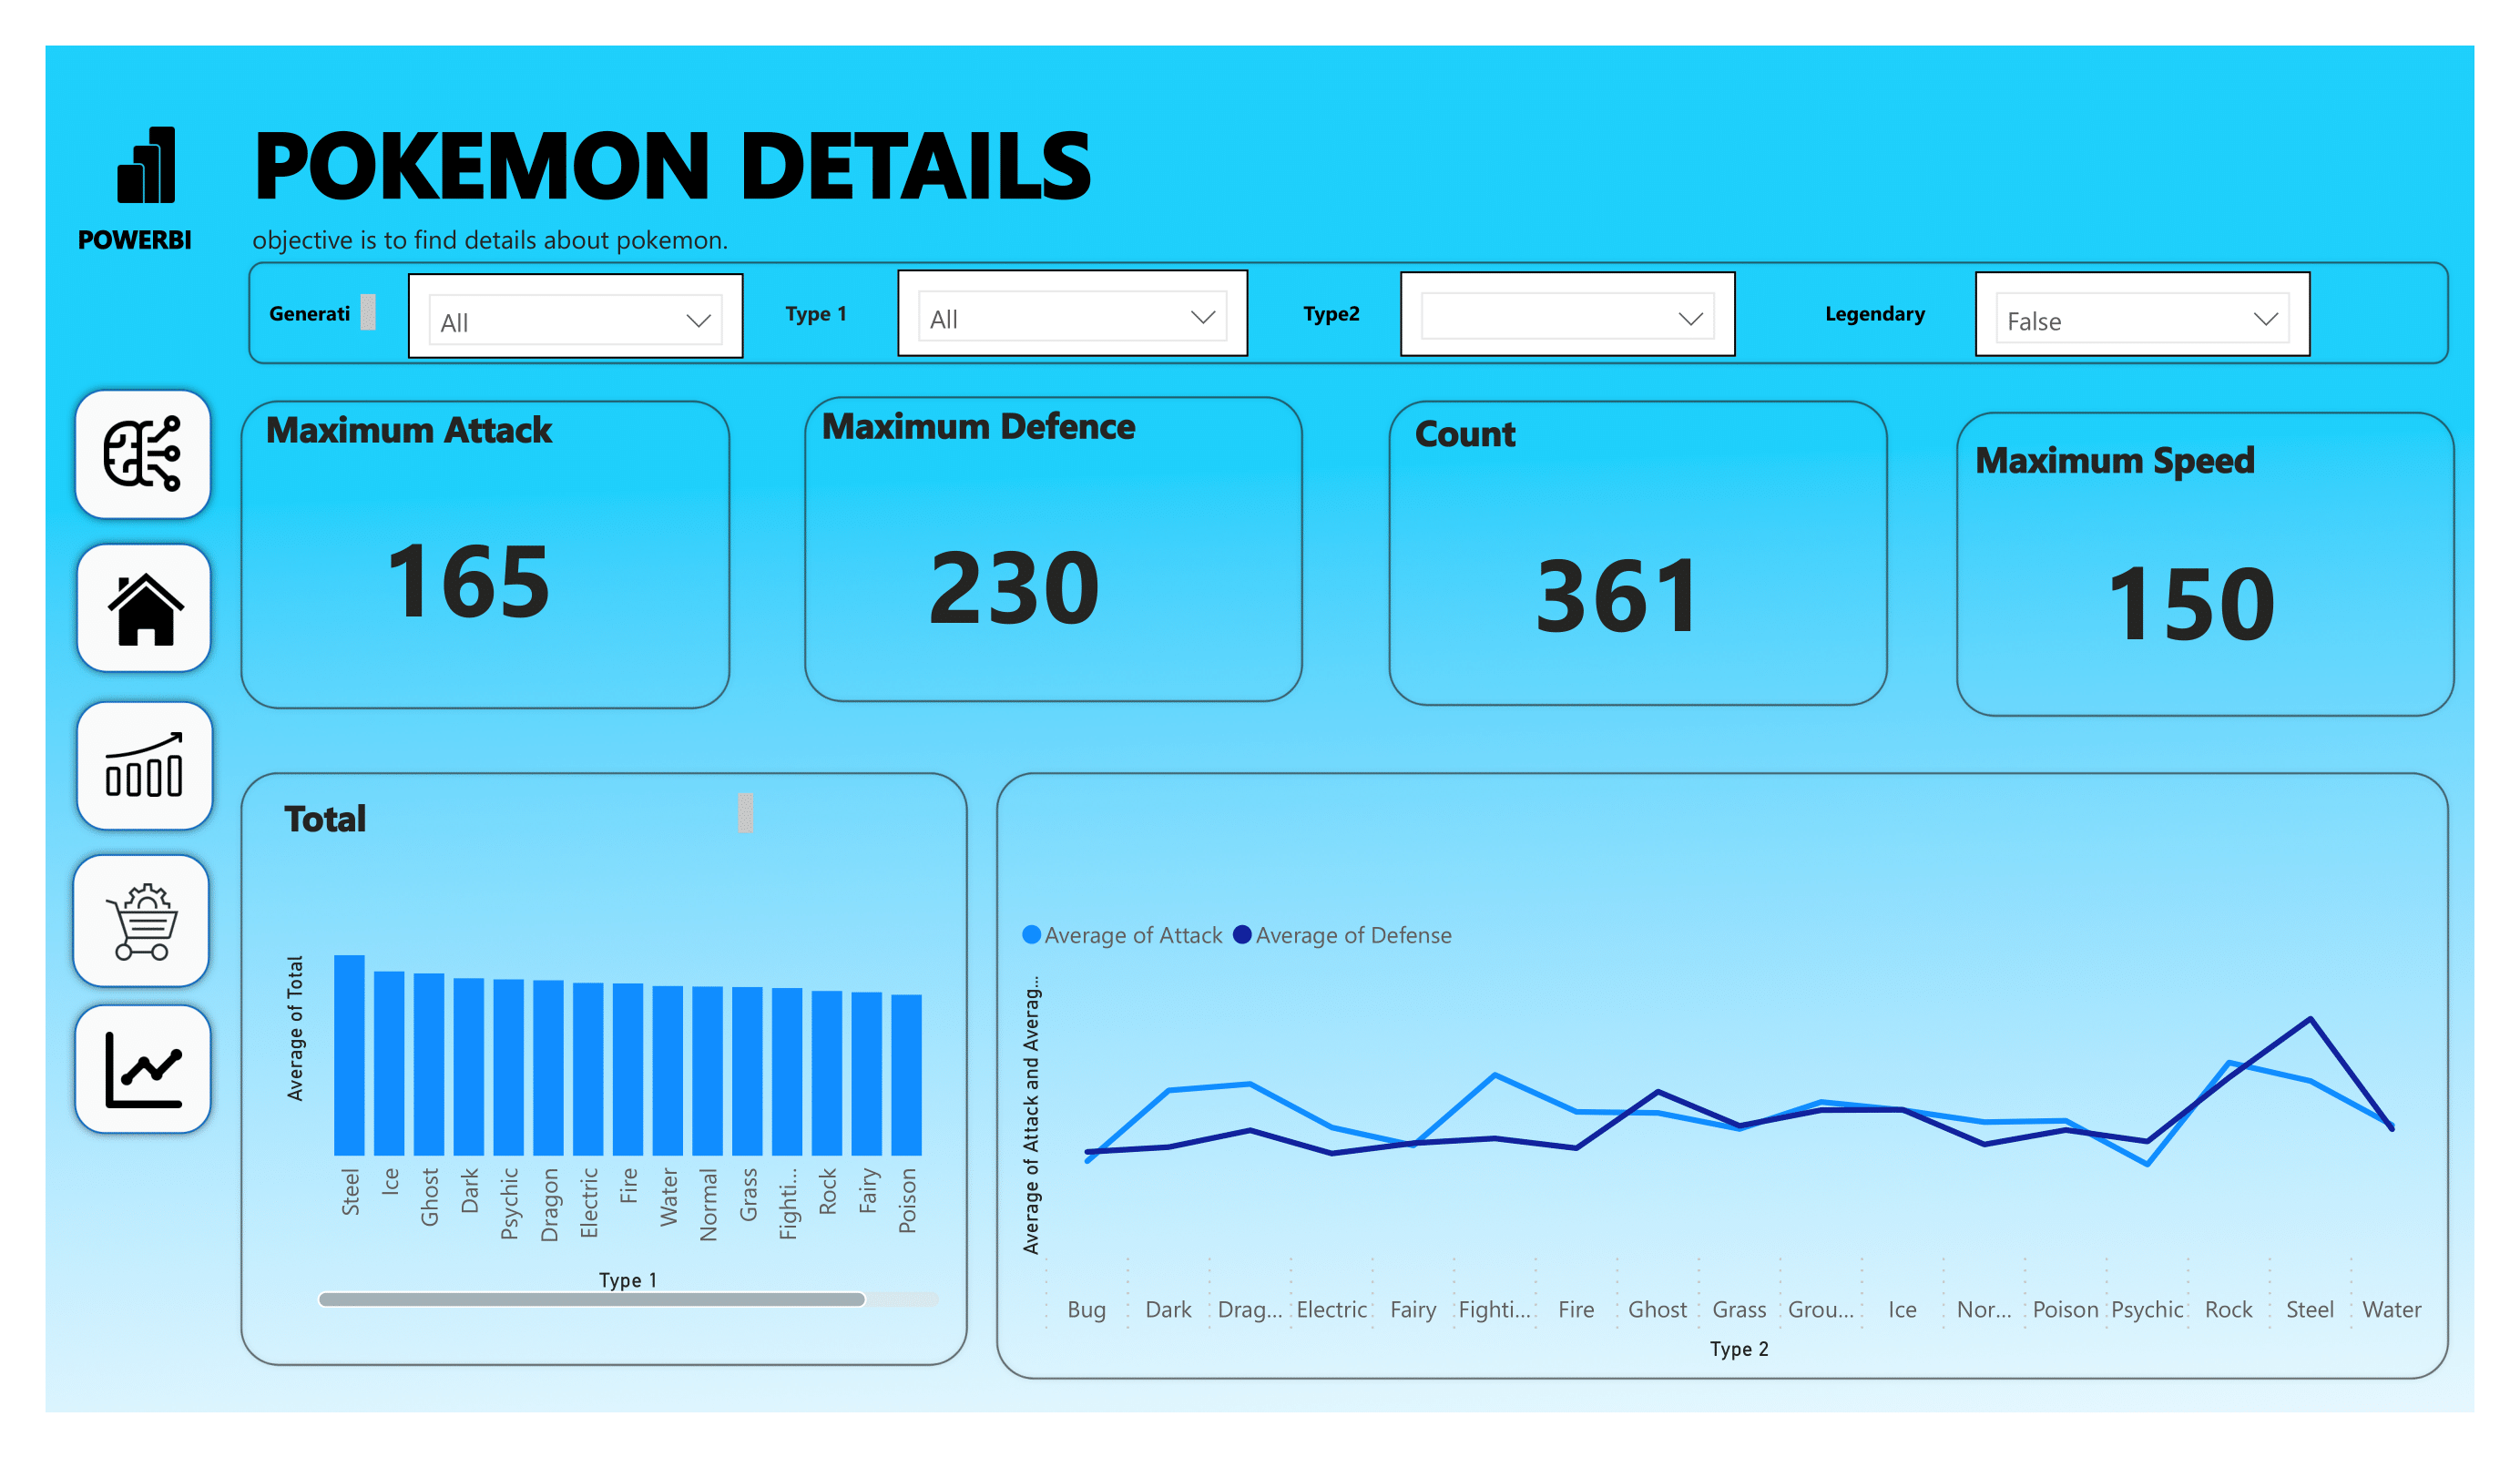

This screenshot's page, from the dashboard's own definition file:
{"tool":"powerbi","page":{"name":"pokemon","canvas":[1280,720],"ordinal":0},"visuals":[{"type":"shape","box":[10.2,422.2,81,79],"z":0},{"type":"shape","box":[12.2,341.2,81,77],"z":1000},{"type":"shape","box":[12.2,258.2,80,77],"z":2000},{"type":"shape","box":[11.2,177.2,81,77],"z":3000},{"type":"image","box":[28,38,50,50],"z":4000},{"type":"image","box":[27.2,354.2,50,50],"z":5000},{"type":"image","box":[28,272,50,50],"z":6000},{"type":"image","box":[26.2,190.2,50,50],"z":7000},{"type":"image","box":[26.2,437.2,50,50],"z":8000},{"type":"shape","box":[11.4,501.4,81,77],"z":9000},{"type":"image","box":[27.2,515.2,50,50],"z":10000},{"type":"textbox","box":[12,88,87,31],"z":11000},{"type":"textbox","box":[104,23,499,74],"z":12000},{"type":"textbox","box":[104,88,335,31],"z":13000},{"type":"shape","box":[104,111,1166,60],"z":14000},{"type":"shape","box":[99.6,184.4,264,169],"z":15000},{"type":"shape","box":[396.6,182.4,269,167],"z":16000},{"type":"shape","box":[1004.2,189.8,269,167],"z":17000},{"type":"shape","box":[100,380,389,319],"z":18000},{"type":"shape","box":[498,380,772,326],"z":19000},{"type":"slicer","fields":{"Values":["pokemon.Generation"]},"box":[191,120,177,45],"z":20000},{"type":"slicer","fields":{"Values":["pokemon.Type 2"]},"box":[714.3,119,177,45],"z":21000},{"type":"slicer","fields":{"Values":["pokemon.Legendary"]},"box":[1017,119,177,45],"z":22000},{"type":"slicer","fields":{"Values":["pokemon.Type 1"]},"box":[448.7,118,185,46],"z":23000},{"type":"textbox","box":[113,126,66,31],"z":24000},{"type":"textbox","box":[385,126,54,31],"z":25000},{"type":"textbox","box":[658,126,49,38],"z":26000},{"type":"textbox","box":[933,126,74,31],"z":27000},{"type":"card","fields":{"Values":["Max(pokemon.Attack)"]},"box":[110.6,234.4,223,89],"z":28000},{"type":"textbox","box":[110.6,184.4,241,45],"z":29000},{"type":"textbox","box":[403.6,182.4,188,48],"z":30000},{"type":"card","fields":{"Values":["Max(pokemon.Speed)"]},"box":[1038.2,254.8,184,71],"z":31000},{"type":"card","fields":{"Values":["Max(pokemon.Defense)"]},"box":[445.6,244.4,129,75],"z":32000},{"type":"textbox","box":[1012.2,199.8,173,37],"z":33000},{"type":"textbox","box":[121,389,257,33],"z":34000},{"type":"lineChart","fields":{"Y":["Avg(pokemon.Attack)","Avg(pokemon.Defense)"],"Category":["pokemon.Type 1","pokemon.Type 2"]},"box":[509,449,750,249],"z":35000},{"type":"columnChart","fields":{"Y":["Avg(pokemon.Total)"],"Category":["pokemon.Type 1"]},"box":[121,437,355,233],"z":36000},{"type":"shape","box":[705,184.2,269,167],"z":37000},{"type":"card","fields":{"Values":["pokemon.bar"]},"box":[750.2,242,160,88],"z":38000},{"type":"textbox","box":[717,185.6,75,37],"z":39000}]}

Visuals, with their boxes in screenshot pixels (x1, y1, x2, y2):
shape: x1=65, y1=847, x2=219, y2=996
shape: x1=68, y1=693, x2=222, y2=839
shape: x1=68, y1=535, x2=220, y2=681
shape: x1=66, y1=382, x2=220, y2=528
image: x1=98, y1=117, x2=194, y2=212
image: x1=97, y1=718, x2=192, y2=812
image: x1=98, y1=562, x2=194, y2=657
image: x1=96, y1=406, x2=190, y2=501
image: x1=96, y1=875, x2=190, y2=970
shape: x1=67, y1=997, x2=221, y2=1143
image: x1=97, y1=1023, x2=192, y2=1118
textbox: x1=68, y1=212, x2=233, y2=271
textbox: x1=243, y1=89, x2=1189, y2=229
textbox: x1=243, y1=212, x2=879, y2=271
shape: x1=243, y1=256, x2=2455, y2=370
shape: x1=235, y1=395, x2=736, y2=716
shape: x1=798, y1=392, x2=1309, y2=708
shape: x1=1951, y1=405, x2=2462, y2=722
shape: x1=235, y1=767, x2=974, y2=1371
shape: x1=991, y1=767, x2=2455, y2=1385
slicer - pokemon.Generation: x1=408, y1=273, x2=744, y2=359
slicer - pokemon.Type 2: x1=1401, y1=271, x2=1737, y2=357
slicer - pokemon.Legendary: x1=1975, y1=271, x2=2311, y2=357
slicer - pokemon.Type 1: x1=897, y1=270, x2=1248, y2=357
textbox: x1=260, y1=284, x2=385, y2=343
textbox: x1=776, y1=284, x2=879, y2=343
textbox: x1=1294, y1=284, x2=1387, y2=357
textbox: x1=1816, y1=284, x2=1956, y2=343
card - Max(pokemon.Attack): x1=255, y1=490, x2=678, y2=659
textbox: x1=255, y1=395, x2=713, y2=481
textbox: x1=811, y1=392, x2=1168, y2=483
card - Max(pokemon.Speed): x1=2015, y1=529, x2=2365, y2=664
card - Max(pokemon.Defense): x1=891, y1=509, x2=1136, y2=651
textbox: x1=1966, y1=424, x2=2294, y2=494
textbox: x1=275, y1=783, x2=763, y2=846
lineChart - Avg(pokemon.Attack) x Avg(pokemon.Defense): x1=1012, y1=897, x2=2434, y2=1370
columnChart - Avg(pokemon.Total) x pokemon.Type 1: x1=275, y1=874, x2=949, y2=1317
shape: x1=1383, y1=395, x2=1893, y2=712
card - pokemon.bar: x1=1469, y1=504, x2=1772, y2=672
textbox: x1=1406, y1=398, x2=1548, y2=468
